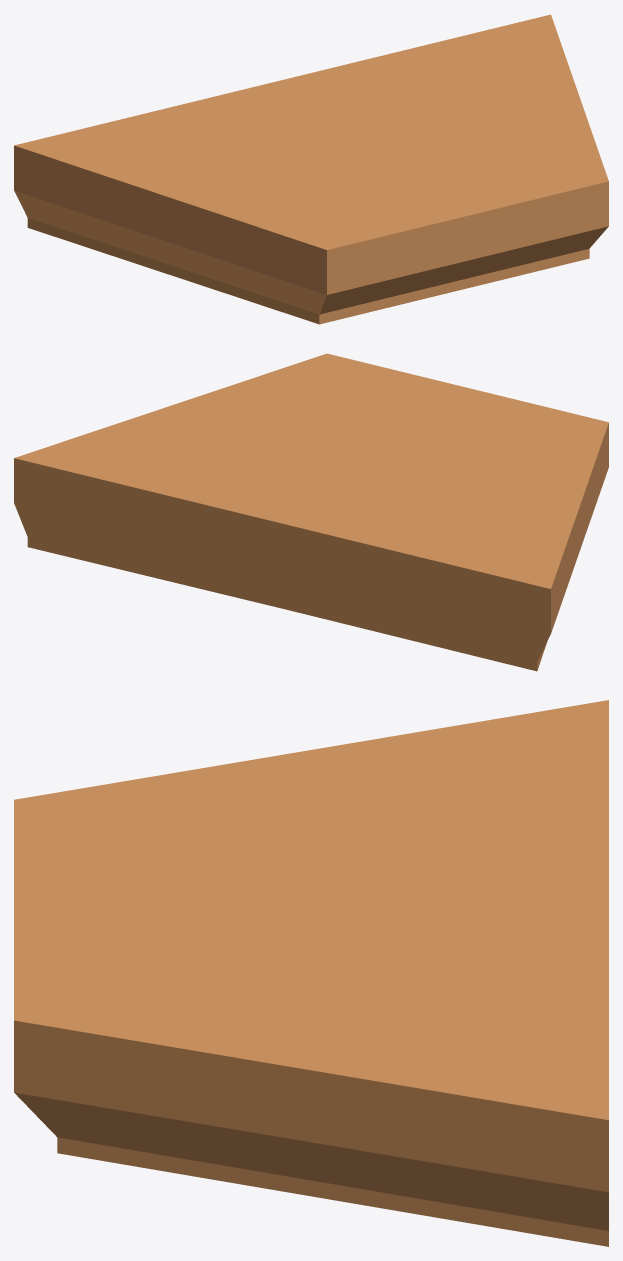
File: WindowTowerdown.fbx
The picture shows the model from 3 angles, top to bottom: view 1: azimuth 30°, elevation 25°; view 2: azimuth 150°, elevation 25°; view 3: azimuth 270°, elevation 25°; orthographic projection. The views are drawn at different scales.
Parts seen in each view (by area): view 1: WindowTowerdown; view 2: WindowTowerdown; view 3: WindowTowerdown.
Boxes of the visible parts, x1,y1,x2,y2 form: WindowTowerdown: (14, 14, 608, 324); WindowTowerdown: (14, 353, 608, 671); WindowTowerdown: (14, 700, 608, 1246).
Size of the model in its own units: 2.64 by 1.58 by 0.402.
